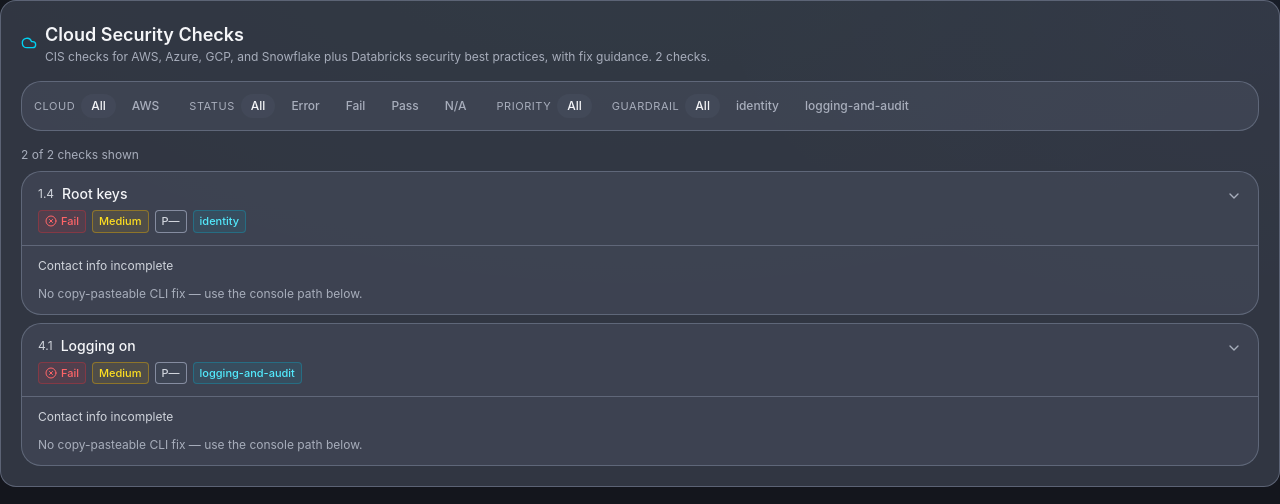
Test: CISBenchmarkDetail › filters across all fetched checks by guardrail
Expected: the text "Root keys" is shown, [62,184,128,204]
Expected: the text "Logging on" is shown, [61,336,136,356]
# Picking a guardrail narrows to checks carrying it, across every cloud.
Step 1. Click the button "logging-and-audit" → (857, 106), box [795,94,919,118]
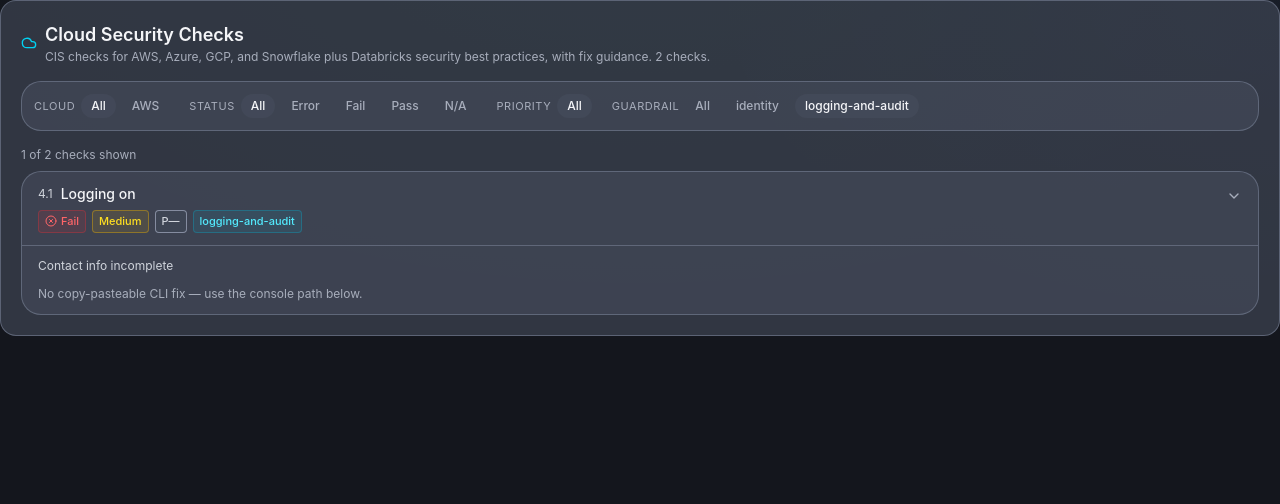
Expected: the text "Logging on" is shown, [61,184,136,204]
Now the button "Root keys" is gone
